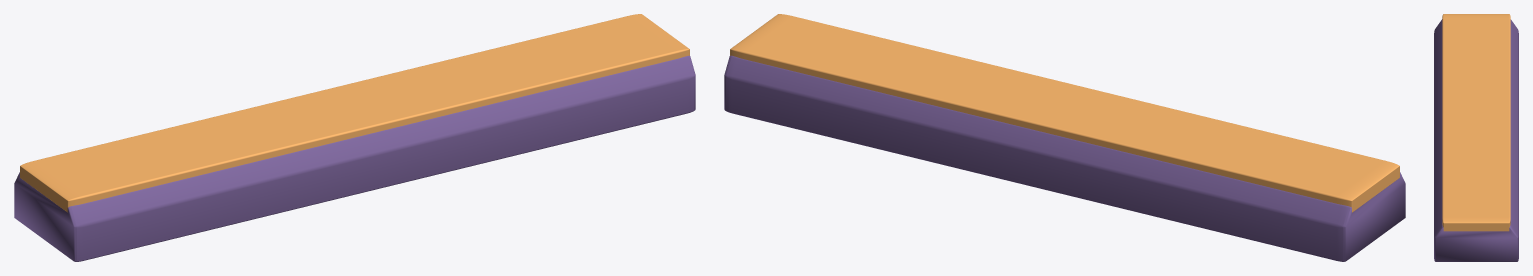
The picture shows the model from 3 angles, left to right: view 1: azimuth 30°, elevation 25°; view 2: azimuth 150°, elevation 25°; view 3: azimuth 270°, elevation 25°; orthographic projection. The views are drawn at different scales.
Visible parts, largest first — view 1: Cube.017, Plane.021; view 2: Cube.017, Plane.021; view 3: Plane.021, Cube.017.
Boxes of the visible parts, box(x1,y1,x2,y2) form: Cube.017: box(14, 55, 695, 261); Plane.021: box(20, 14, 689, 212); Cube.017: box(724, 55, 1405, 261); Plane.021: box(730, 14, 1399, 212); Plane.021: box(1442, 14, 1510, 231); Cube.017: box(1434, 19, 1518, 261).
Size of the model in its own units: 776 by 70.78 by 133.
